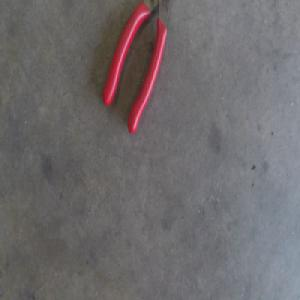Pliers: (101, 0, 171, 134)
